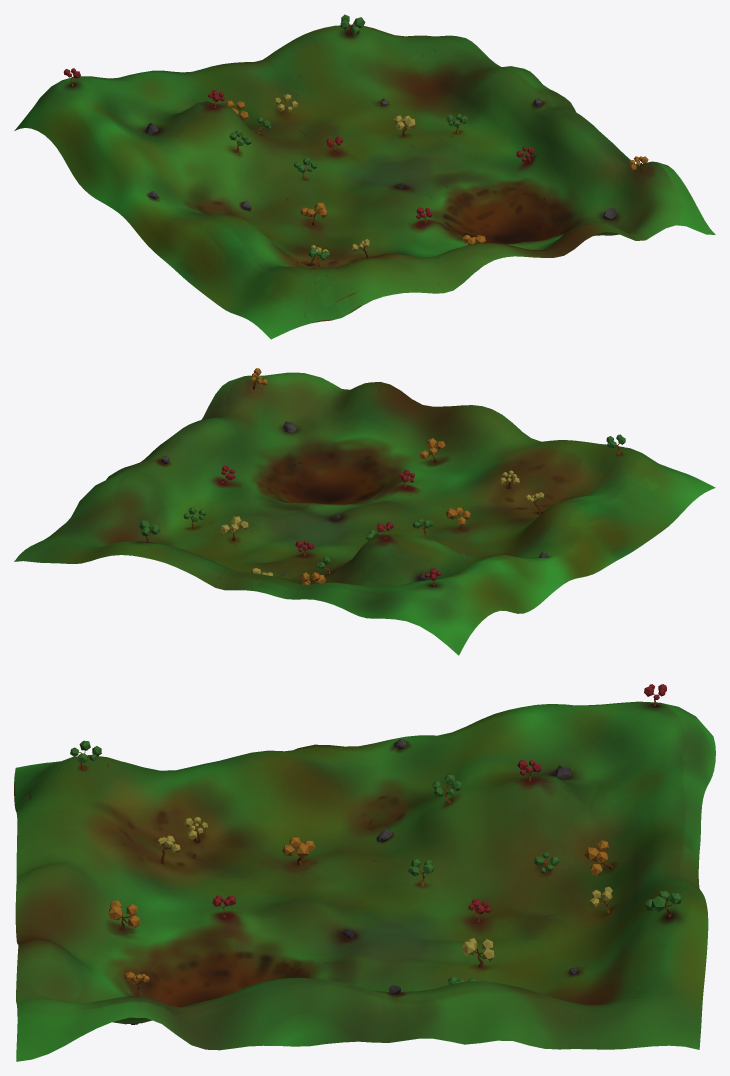
The model's file is Level #1 Terrain.fbx.
3 views of the same model, one above another, from view 1: azimuth 30°, elevation 25°; view 2: azimuth 150°, elevation 25°; view 3: azimuth 270°, elevation 25° (orthographic). The views are drawn at different scales.
Parts seen in each view (by area): view 1: Plane.001; view 2: Plane.001; view 3: Plane.001.
Boxes of the visible parts, bbox=[...] form: Plane.001: bbox=[14, 24, 715, 339]; Plane.001: bbox=[14, 372, 715, 655]; Plane.001: bbox=[14, 701, 715, 1061].
Bounding box in the file's own units: 49102 × 12004 × 49710.
13 materials, 5 textured.
